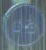bike lane: (4, 5, 44, 48)
